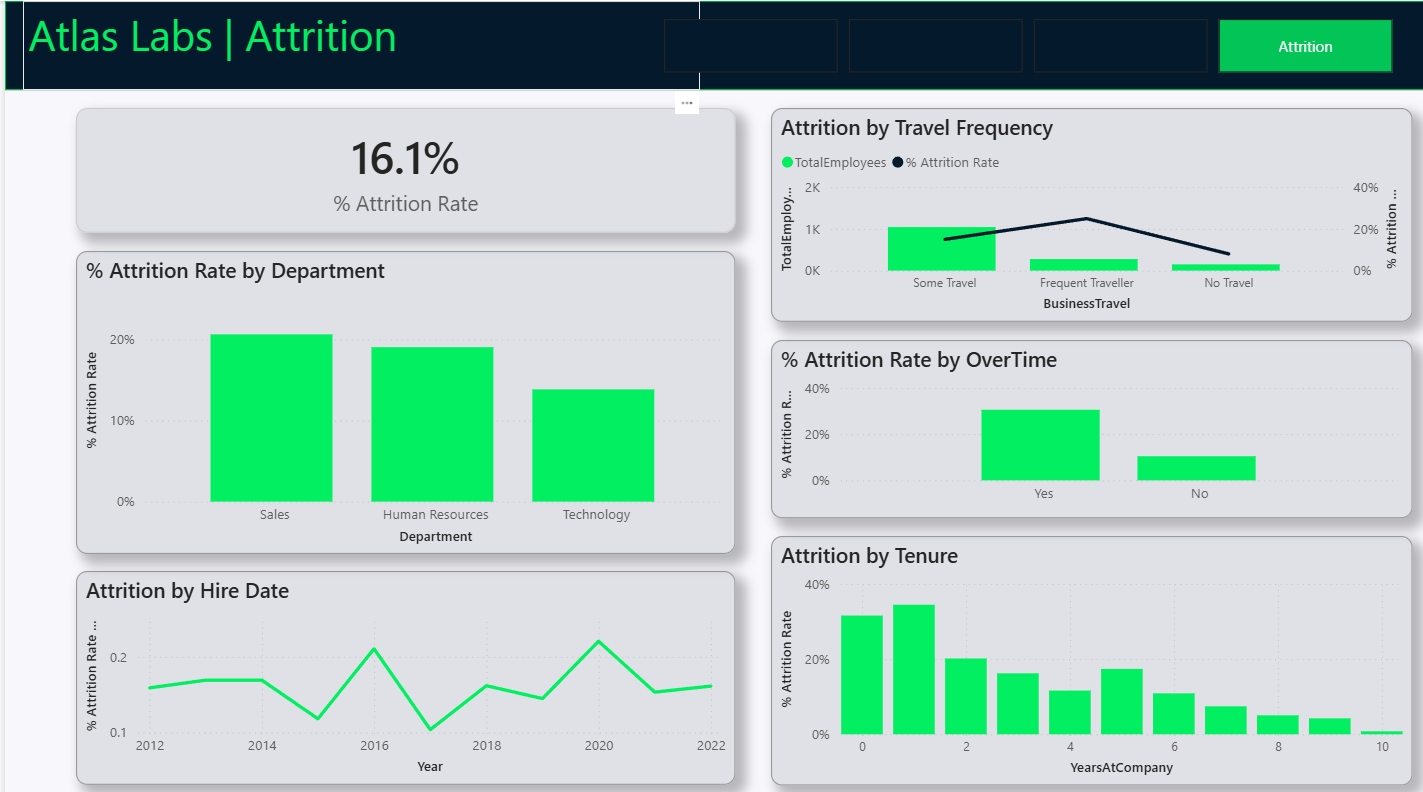

What the dashboard file says about the page in this screenshot:
{"tool":"powerbi","page":{"name":"Attrition","canvas":[1280,720],"ordinal":3},"visuals":[{"type":"card","fields":{"Values":["Table_Measures.% Attrition Rate"]},"box":[64,96,592,112],"z":0},{"type":"lineChart","title":"Attrition by Hire Date","fields":{"Y":["Table_Measures.% Attrition Rate Date"],"Category":["DimDate.Date.Variation.Date Hierarchy.Year","DimDate.Date.Variation.Date Hierarchy.Quarter","DimDate.Date.Variation.Date Hierarchy.Month","DimDate.Date.Variation.Date Hierarchy.Day"]},"box":[64,512,592,192],"z":1000},{"type":"lineClusteredColumnComboChart","title":"Attrition by Travel Frequency","fields":{"Y":["Table_Measures.TotalEmployees"],"Category":["DimEmployee.BusinessTravel"],"Y2":["Table_Measures.% Attrition Rate"]},"box":[688,96,576,192],"z":2000},{"type":"clusteredColumnChart","fields":{"Y":["Table_Measures.% Attrition Rate"],"Category":["DimEmployee.OverTime"]},"box":[688,304,576,160],"z":3000},{"type":"columnChart","title":"Attrition by Tenure","fields":{"Y":["Table_Measures.% Attrition Rate"],"Category":["DimEmployee.YearsAtCompany"]},"box":[688,480,576,224],"z":4000},{"type":"shape","box":[0,0,1280,80],"z":5000},{"type":"textbox","box":[16,0,608,80],"z":6000},{"type":"columnChart","fields":{"Category":["DimEmployee.Department","DimEmployee.JobRole"],"Y":["Table_Measures.% Attrition Rate"]},"box":[64,224,592,272],"z":7000},{"type":"pageNavigator","box":[592,16,656,48],"z":8000}]}

Visuals, with their boxes in screenshot pixels (x1, y1, x2, y2), scaled from the page's 1280x720 canvas onto the 1423x792 screenshot:
card - Table_Measures.% Attrition Rate: (71, 106, 729, 229)
"Attrition by Hire Date" lineChart: (71, 563, 729, 774)
"Attrition by Travel Frequency" lineClusteredColumnComboChart: (765, 106, 1405, 317)
clusteredColumnChart - Table_Measures.% Attrition Rate x DimEmployee.OverTime: (765, 334, 1405, 510)
"Attrition by Tenure" columnChart: (765, 528, 1405, 774)
shape: (0, 0, 1422, 88)
textbox: (18, 0, 694, 88)
columnChart - DimEmployee.Department x DimEmployee.JobRole: (71, 246, 729, 546)
pageNavigator: (658, 18, 1387, 70)
